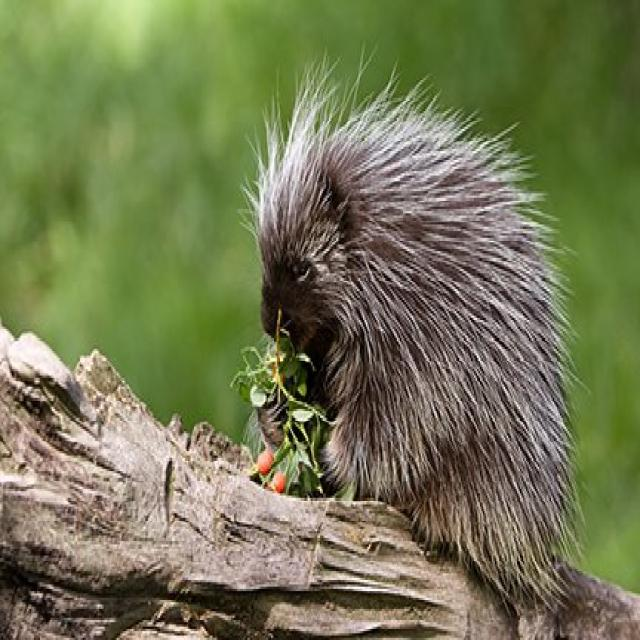Porcupine: (251, 90, 568, 580)
